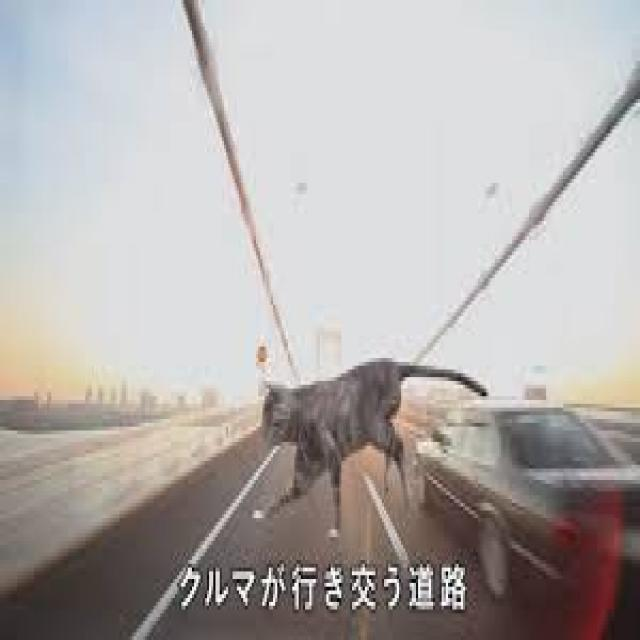cat: (233, 316, 500, 564)
